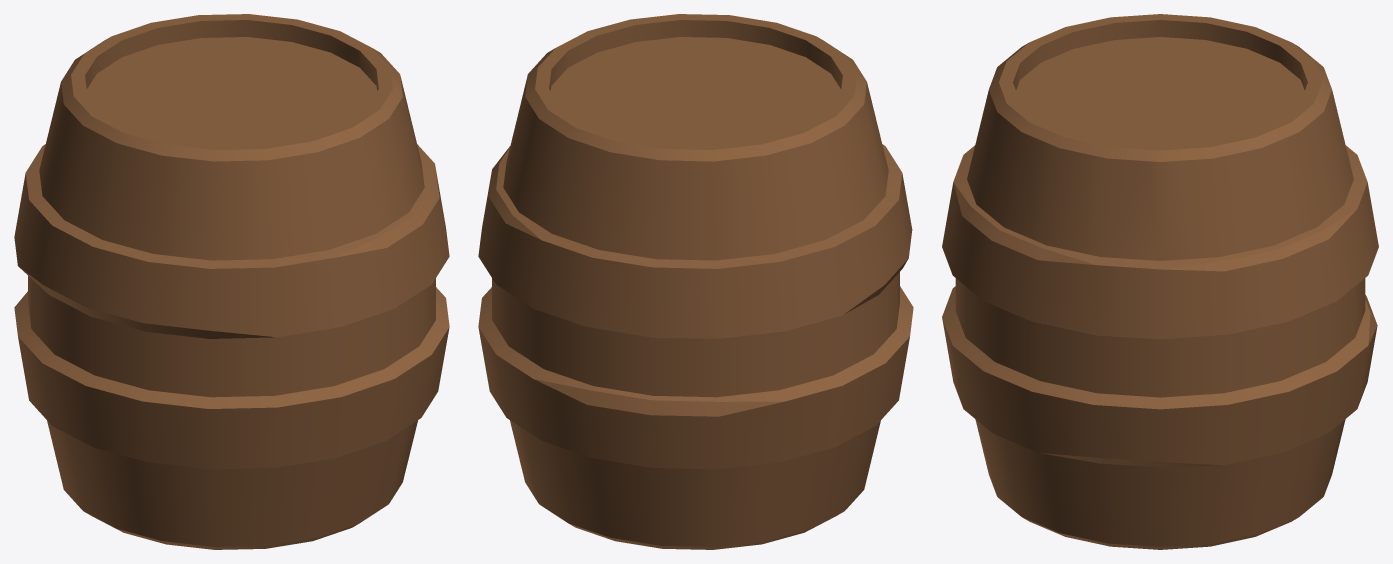
Rendered from barrel-compressed.glb.
3 renders of one model, left to right at view 1: azimuth 30°, elevation 25°; view 2: azimuth 150°, elevation 25°; view 3: azimuth 270°, elevation 25°, orthographic.
Visible parts, largest first — view 1: barrel; view 2: barrel; view 3: barrel.
Part boxes in pixels (x1,y1,x2,y2): barrel: [14, 14, 449, 549]; barrel: [478, 14, 913, 549]; barrel: [942, 14, 1378, 549].
Size of the model in its own units: 0.9421 by 0.95 by 0.9421.
